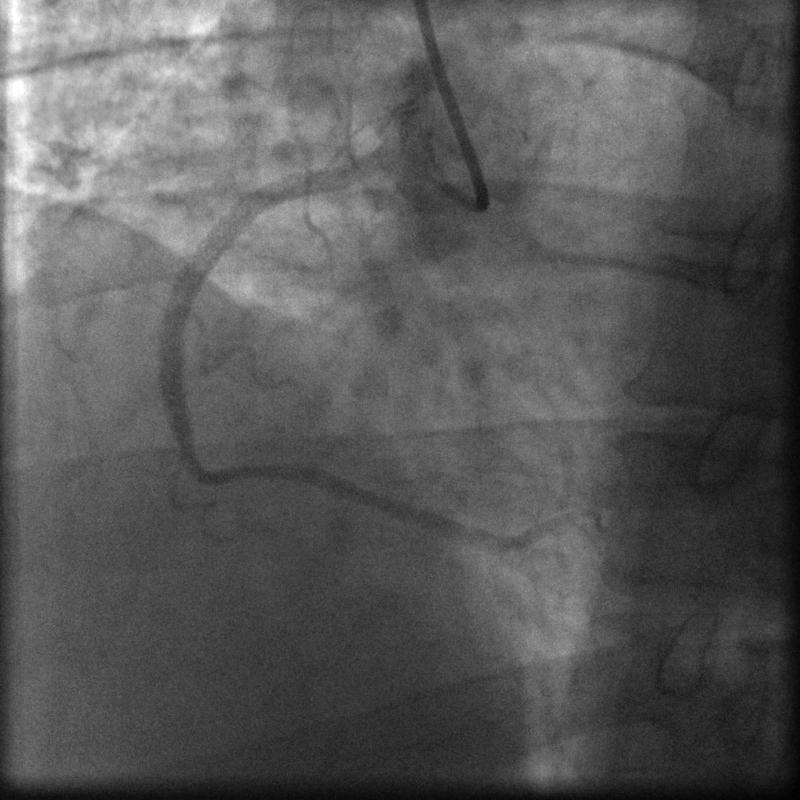Stenosis: (170, 429, 211, 486)
